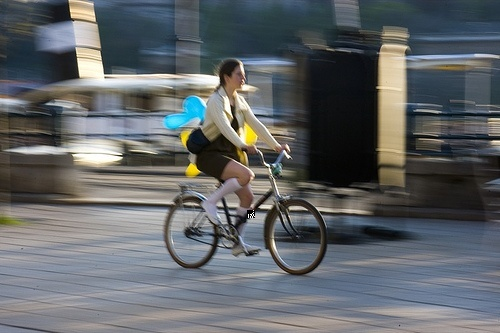car: (164, 145, 330, 275)
person: (185, 57, 291, 249)
person/foot: (199, 200, 223, 227), (232, 241, 259, 256)
person/hand: (241, 143, 258, 155), (276, 144, 292, 154)
person/head: (217, 57, 245, 93)
